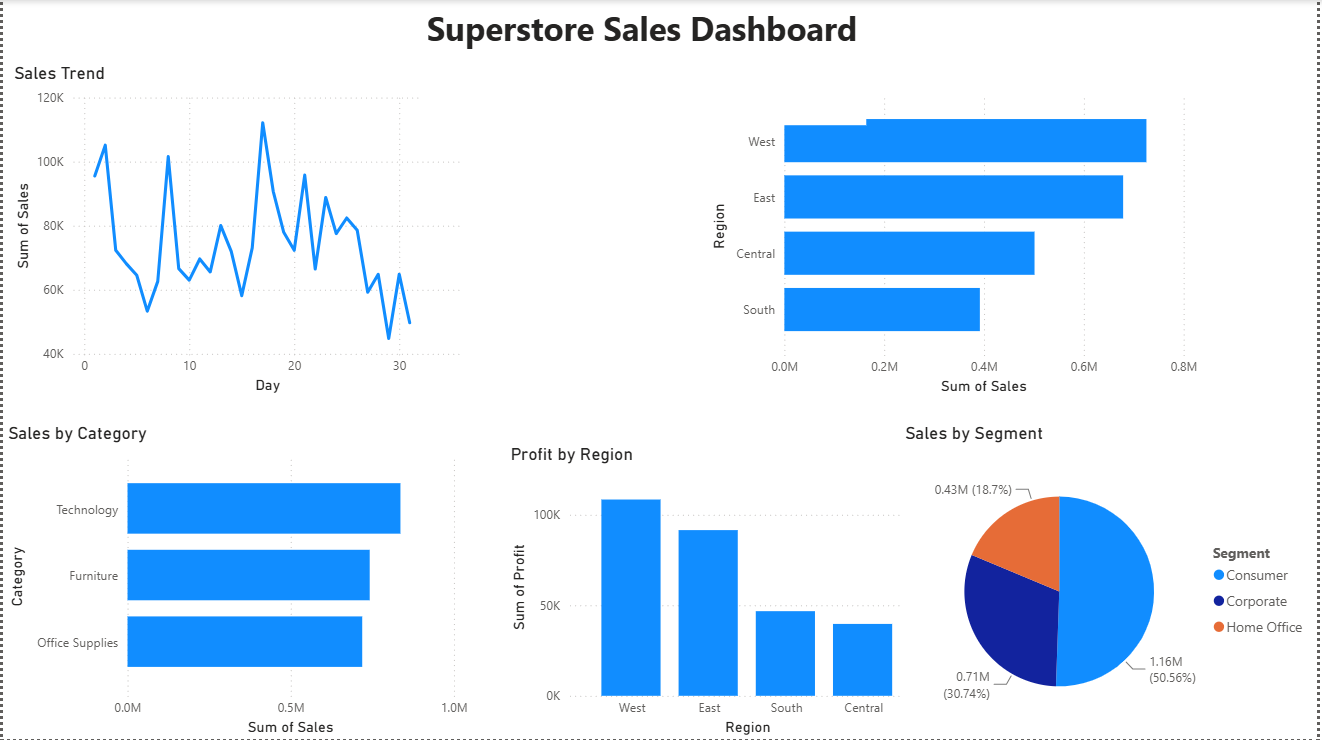

The dashboard page shown, as its layout file describes it:
{"tool":"powerbi","page":{"name":"Page 1","canvas":[1280,720],"ordinal":0},"visuals":[{"type":"lineChart","title":"Sales Trend","fields":{"Category":["Sample - Superstore.Order Date.Variation.Date Hierarchy.Year","Sample - Superstore.Order Date.Variation.Date Hierarchy.Quarter","Sample - Superstore.Order Date.Variation.Date Hierarchy.Month","Sample - Superstore.Order Date.Variation.Date Hierarchy.Day"],"Y":["Sum(Sample - Superstore.Sales)"]},"box":[6,62,446,326],"z":0},{"type":"clusteredBarChart","title":"Sales by Region","fields":{"Category":["Sample - Superstore.Region"],"Y":["Sum(Sample - Superstore.Sales)"]},"box":[683.3,61.7,485,326.7],"z":1},{"type":"clusteredBarChart","title":"Sales by Category","fields":{"Category":["Sample - Superstore.Category"],"Y":["Sum(Sample - Superstore.Sales)"]},"box":[0,412,458,308],"z":2},{"type":"clusteredColumnChart","title":"Profit by Region","fields":{"Category":["Sample - Superstore.Region"],"Y":["Sum(Sample - Superstore.Profit)"]},"box":[490,432,414,288],"z":3},{"type":"pieChart","title":" Sales by Segment","fields":{"Category":["Sample - Superstore.Segment"],"Y":["Sum(Sample - Superstore.Sales)"]},"box":[873.3,411.7,406.7,308.3],"z":4},{"type":"textbox","box":[408.3,0,433.3,121.7],"z":5}]}

Visuals, with their boxes in screenshot pixels (x1, y1, x2, y2), scaled from the page's 1280x720 canvas onto the 1322x740 screenshot:
"Sales Trend" lineChart: box=[6, 64, 467, 399]
"Sales by Region" clusteredBarChart: box=[706, 63, 1207, 399]
"Sales by Category" clusteredBarChart: box=[0, 423, 473, 739]
"Profit by Region" clusteredColumnChart: box=[506, 444, 934, 739]
" Sales by Segment" pieChart: box=[902, 423, 1321, 739]
textbox: box=[422, 0, 869, 125]
